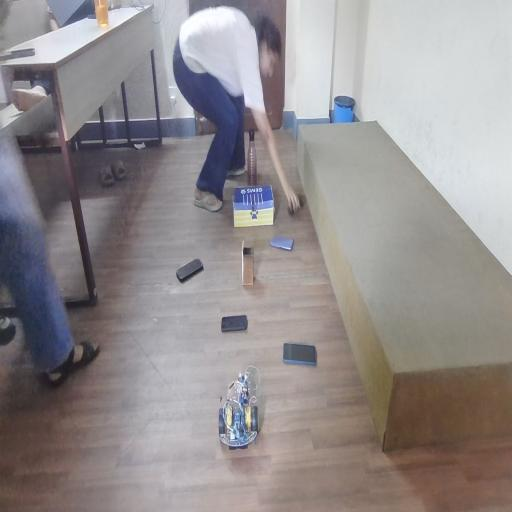Bottle: (251, 126, 264, 191)
car: (219, 363, 294, 458)
